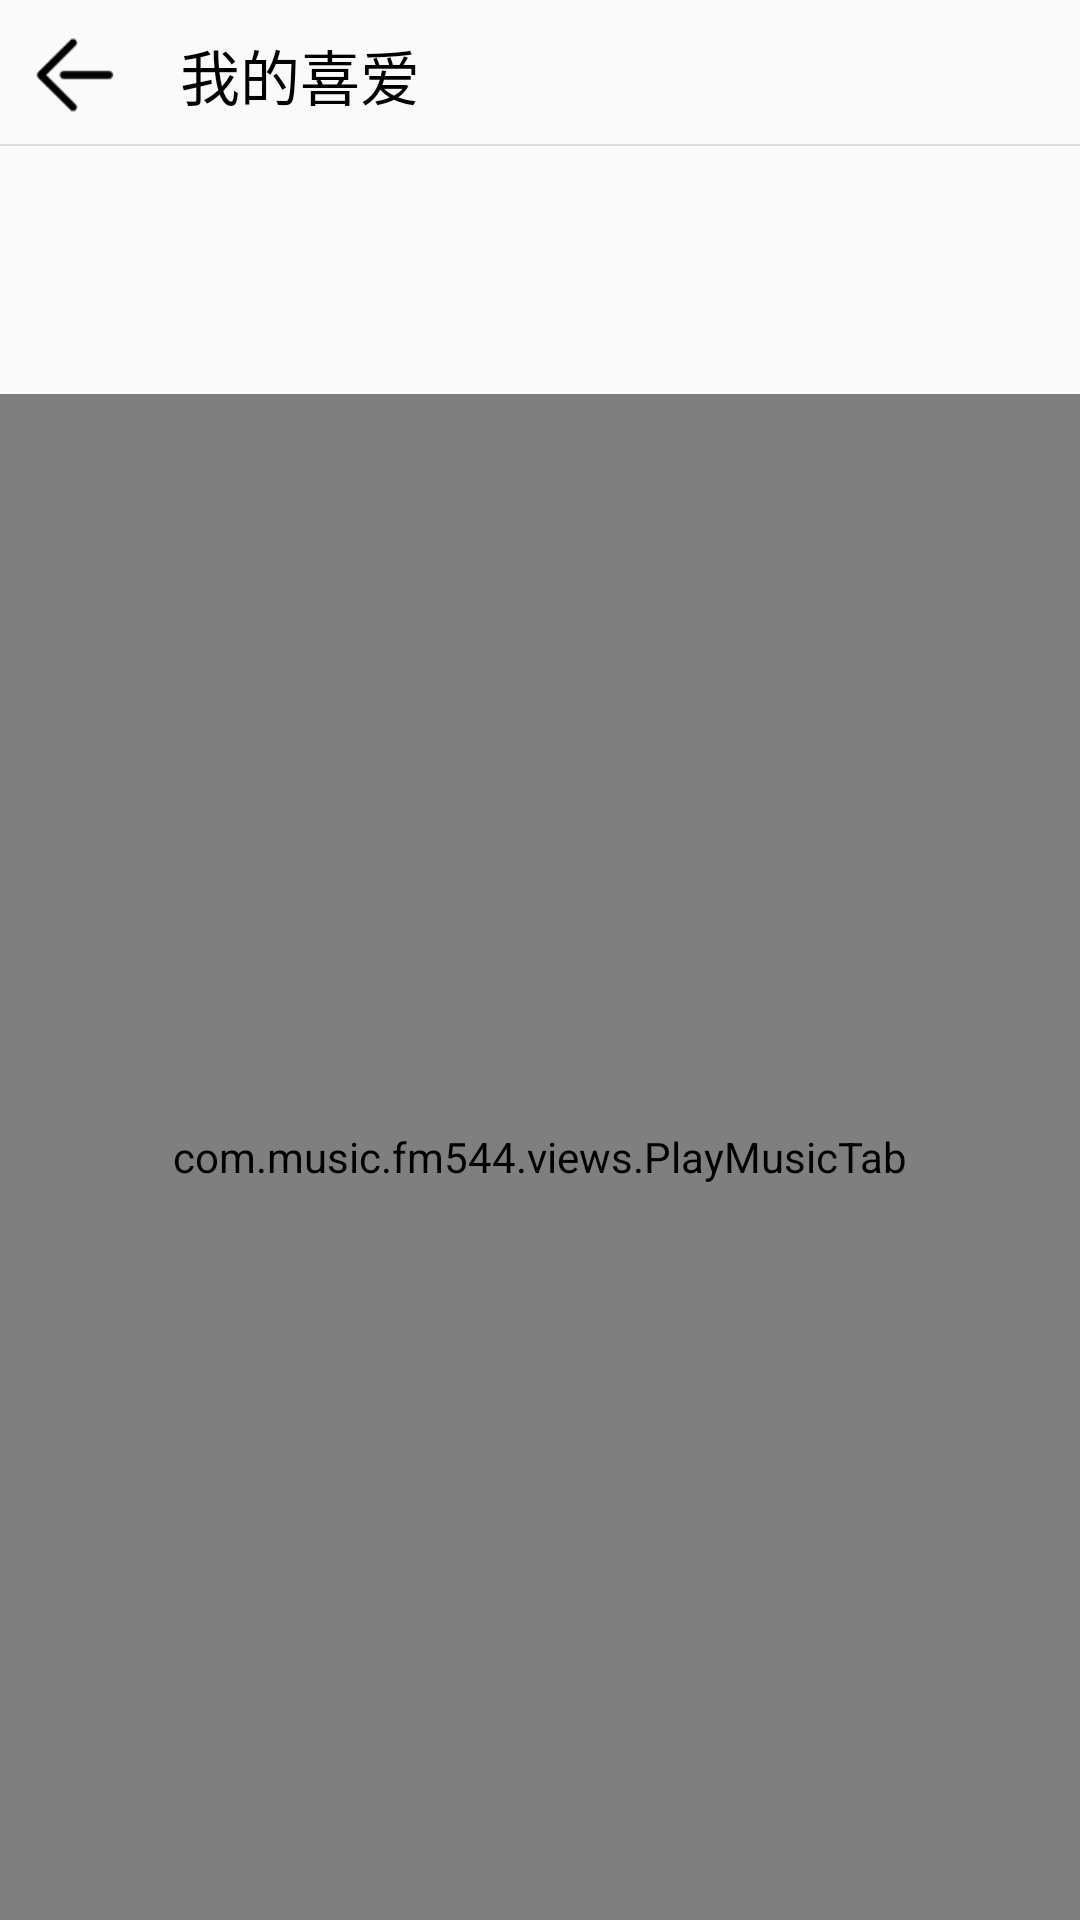

Named icons in this screenshot (1080×1920) and their bounding boxes, (x1, y1, x2, y2):
back: (36, 38, 114, 112)
